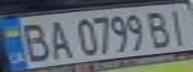0: (72, 15, 96, 56)
7: (90, 12, 112, 54)
9: (124, 11, 151, 52), (109, 12, 133, 53)
A: (42, 17, 72, 60)
B: (15, 19, 54, 63), (145, 8, 175, 48)
I: (163, 6, 193, 46)
